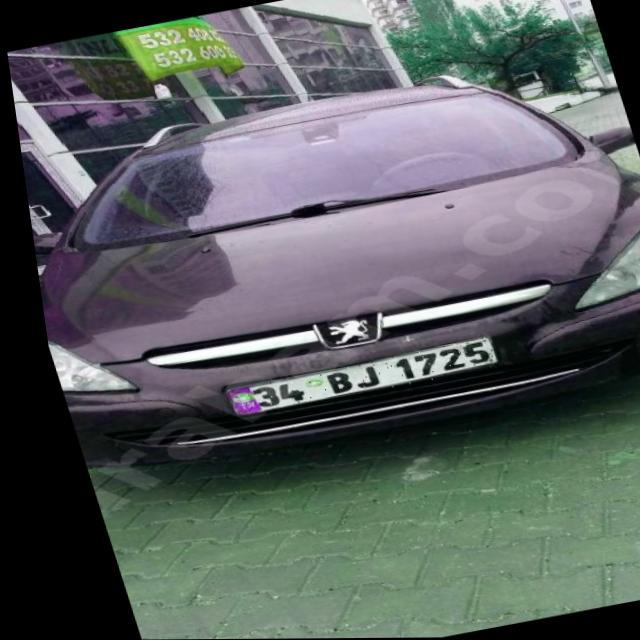license_plate: (210, 336, 495, 416)
